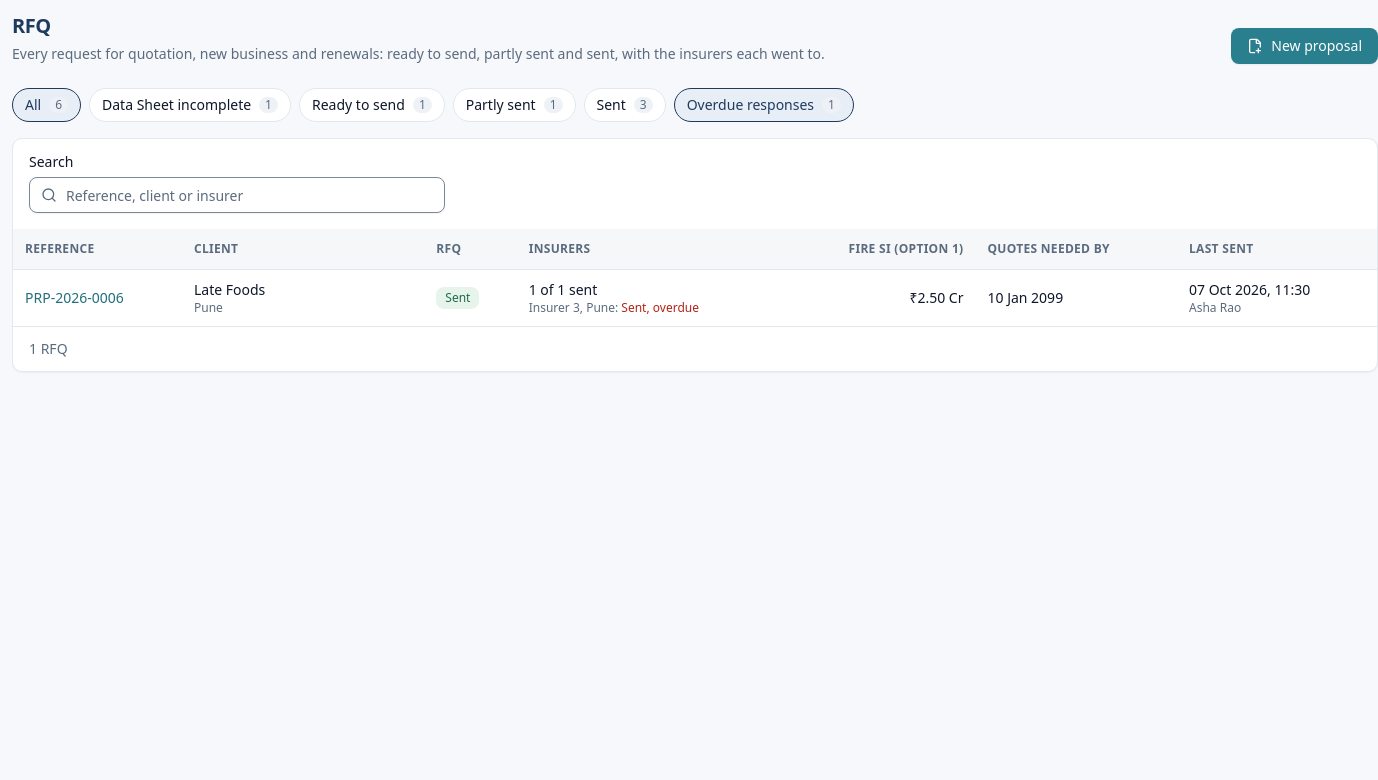
RfqView › counts every insurer with the RFQ as sent and filters overdue responses (?filter=overdue)
Check: the text "Late Foods" is shown, box [194,280,265,298]
Check: the text "Answered Mills" is not shown
Click the button with aria-label "Overdue responses (1)". click: click(764, 105)
box: [674,88,854,122]
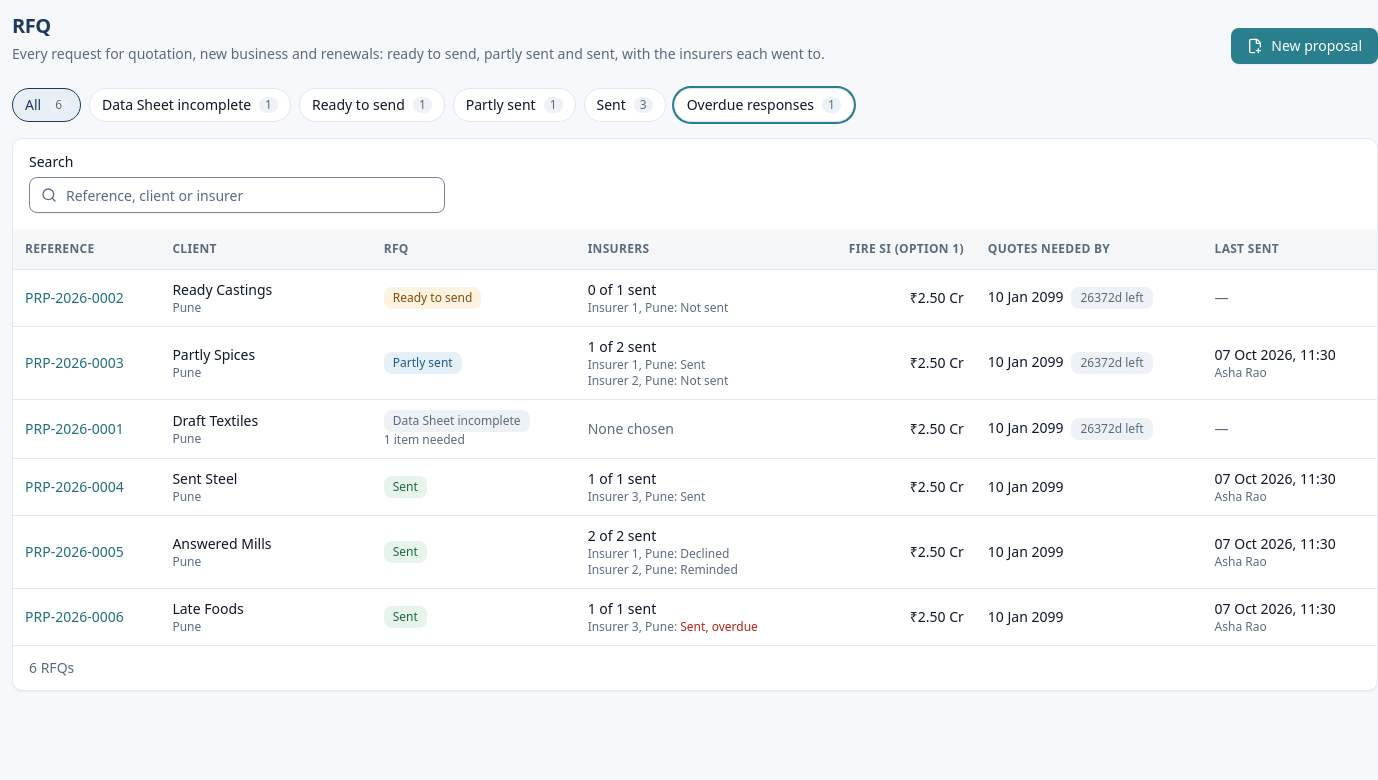
Check: the text "Answered Mills" is shown, box [172,534,272,552]
Check: the text "2 of 2 sent" is shown, box [588,526,656,544]
Check: the text "Declined" is shown, box [680,544,729,562]
